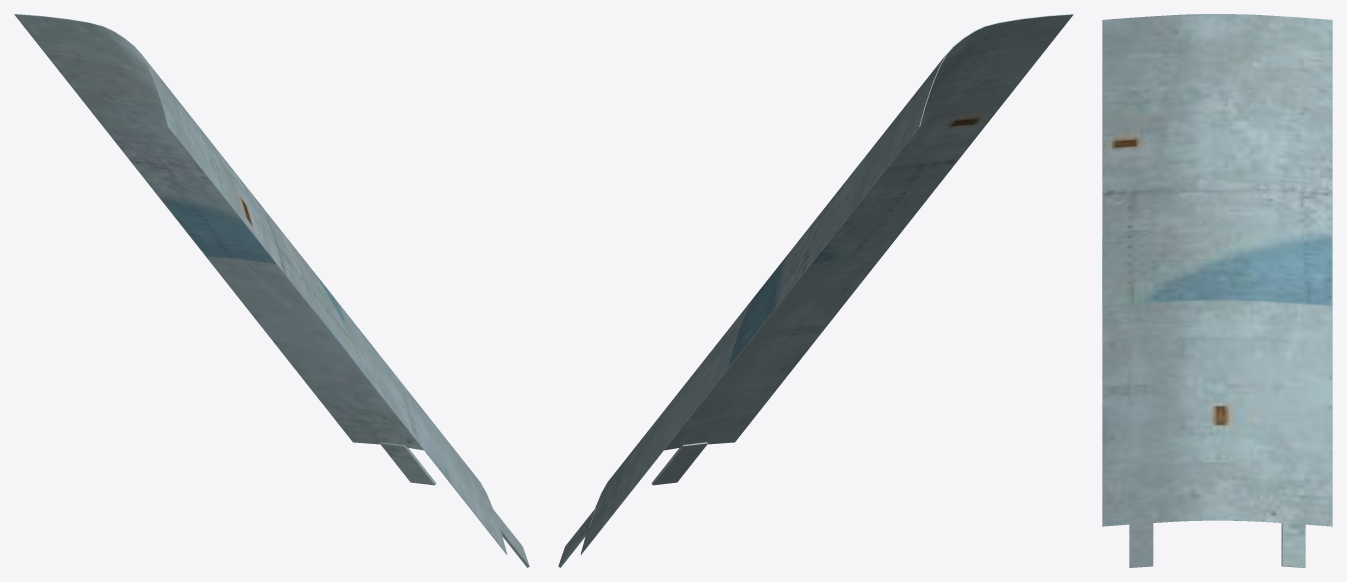
The model's file is su27airbrake.glb.
3 renders of one model, left to right at view 1: azimuth 30°, elevation 25°; view 2: azimuth 150°, elevation 25°; view 3: azimuth 270°, elevation 25°, orthographic. The views are drawn at different scales.
Parts seen in each view (by area): view 1: SU27spoiler; view 2: SU27spoiler; view 3: SU27spoiler.
Part boxes in pixels (x1,y1,x2,y2): SU27spoiler: (14,14,529,567); SU27spoiler: (558,14,1073,567); SU27spoiler: (1102,14,1332,567).
Size of the model in its own units: 1.61 by 2.26 by 1.1.
Materials: 1 (1 with a texture image).
